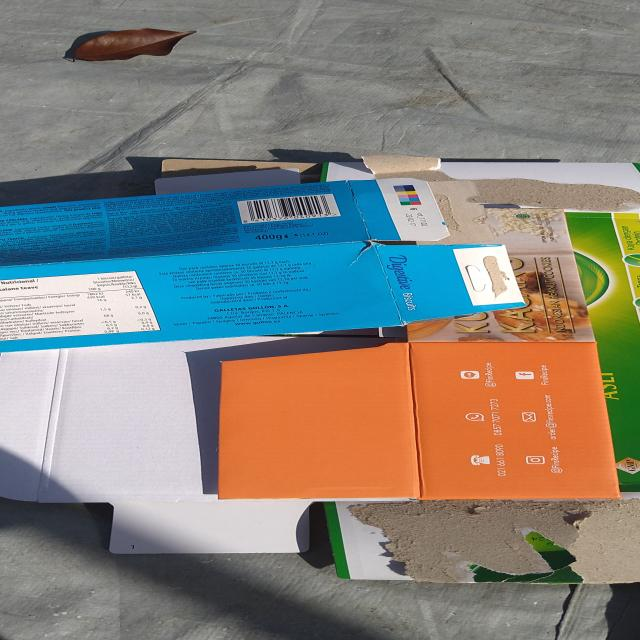cardboard: (20, 338, 640, 582), (0, 181, 505, 347), (406, 152, 640, 337)
